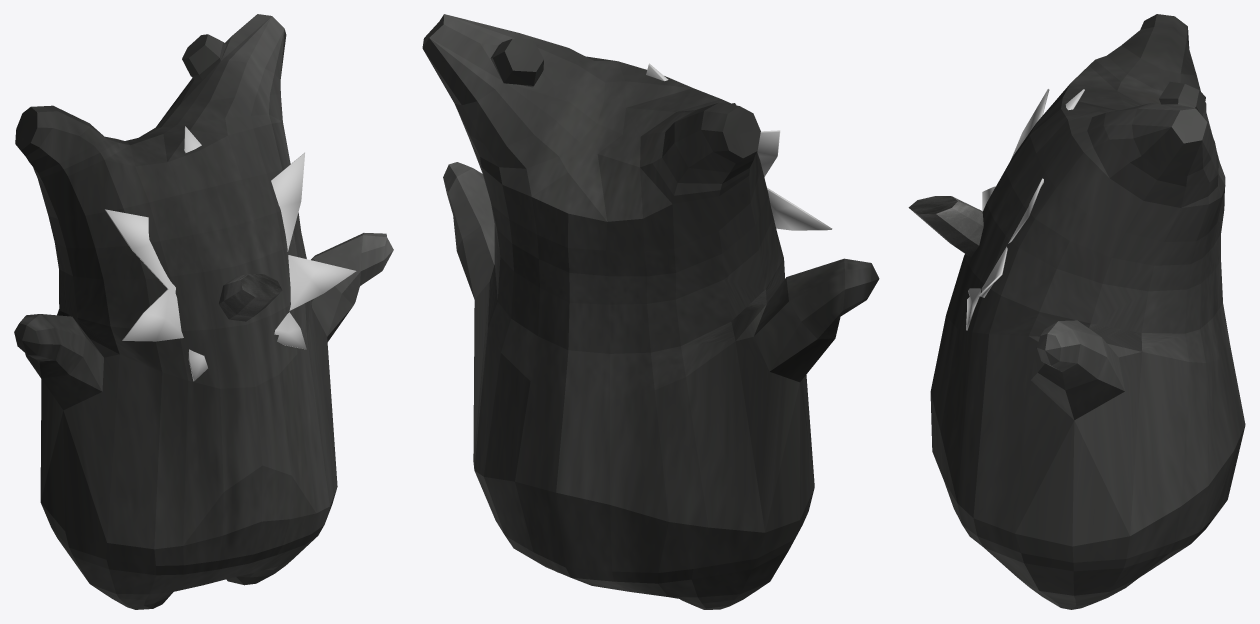
File: frame_0012.obj
3 views of the same model, side by side, from view 1: azimuth 30°, elevation 25°; view 2: azimuth 150°, elevation 25°; view 3: azimuth 270°, elevation 25° (orthographic). The views are drawn at different scales.
Visible parts, largest first — view 1: korok, leaf.003_柱体.013, nose.003_柱体.011; view 2: korok, leaf.003_柱体.013; view 3: korok, nose.003_柱体.011, leaf.003_柱体.013.
Part boxes in pixels (box(x1,y1,x2,y2)): korok: box(14, 14, 393, 609); leaf.003_柱体.013: box(105, 126, 356, 381); nose.003_柱体.011: box(219, 274, 282, 321); korok: box(422, 14, 879, 609); leaf.003_柱体.013: box(646, 63, 832, 230); korok: box(930, 14, 1245, 609); nose.003_柱体.011: box(908, 196, 983, 256); leaf.003_柱体.013: box(966, 89, 1084, 330).
Size of the model in its own units: 1.66 by 2.18 by 1.24.
